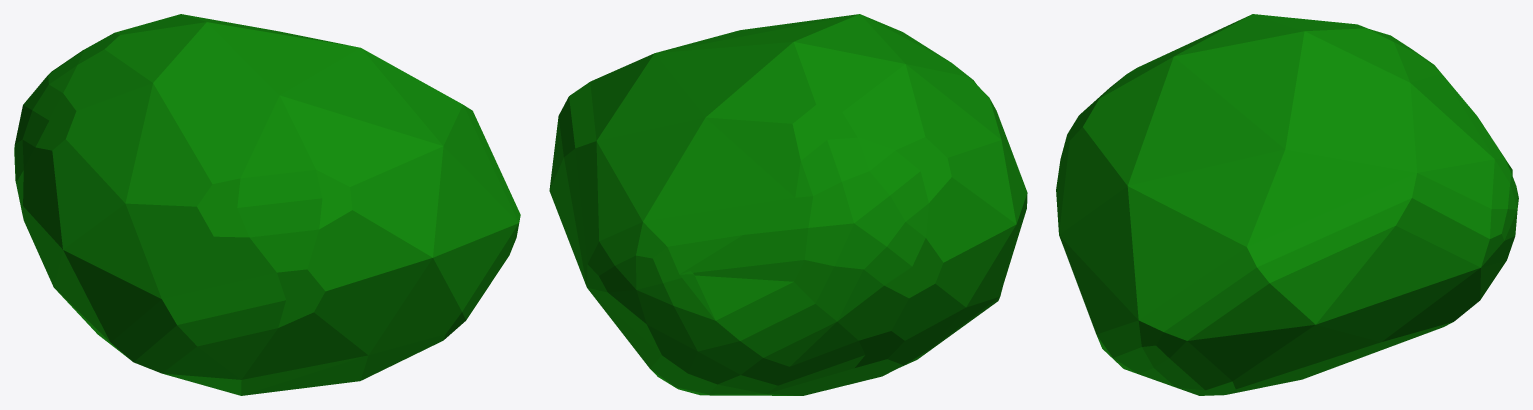
File: bush-3.fbx
The picture shows the model from 3 angles, left to right: view 1: azimuth 30°, elevation 25°; view 2: azimuth 150°, elevation 25°; view 3: azimuth 270°, elevation 25°; orthographic projection. The views are drawn at different scales.
Visible parts, largest first — view 1: Icosphere.031; view 2: Icosphere.031; view 3: Icosphere.031.
Boxes of the visible parts, left/top/right/bottom form: Icosphere.031: left=14, top=14, right=520, bottom=395; Icosphere.031: left=549, top=14, right=1027, bottom=395; Icosphere.031: left=1056, top=14, right=1518, bottom=395.
Size of the model in its own units: 102 by 78.9 by 101.
